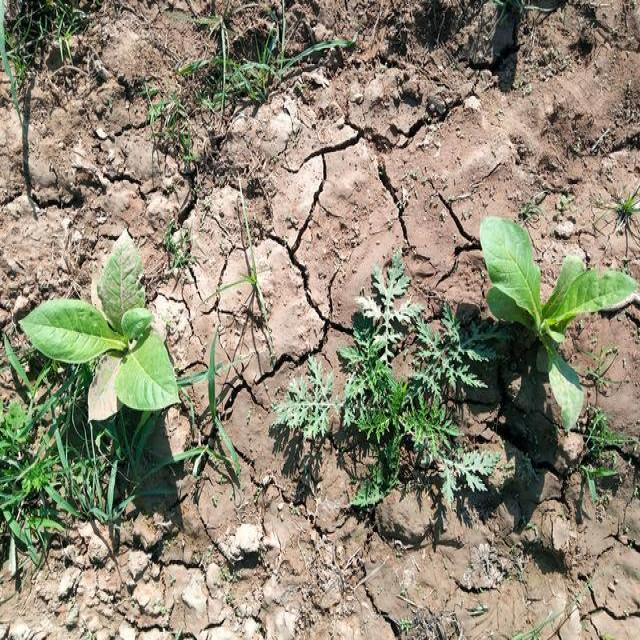crop: (486, 216, 640, 420), (29, 239, 162, 420)
